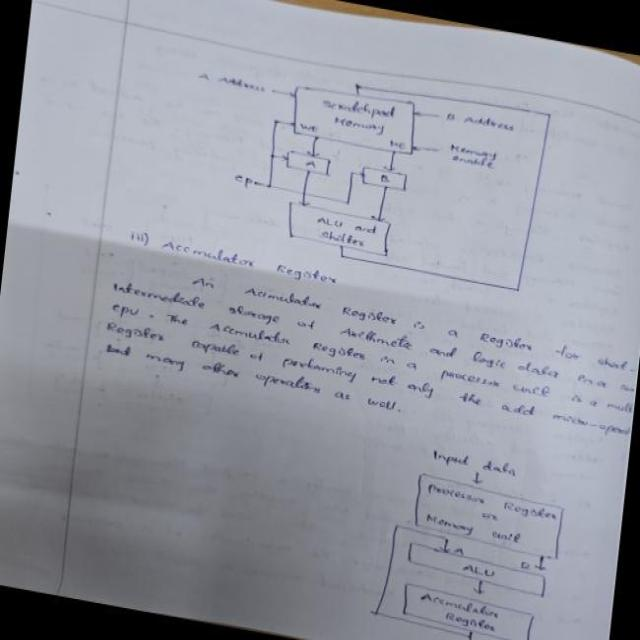Figure Detection - v3 Dataset Version2: (167, 37, 587, 307), (338, 423, 613, 640)
